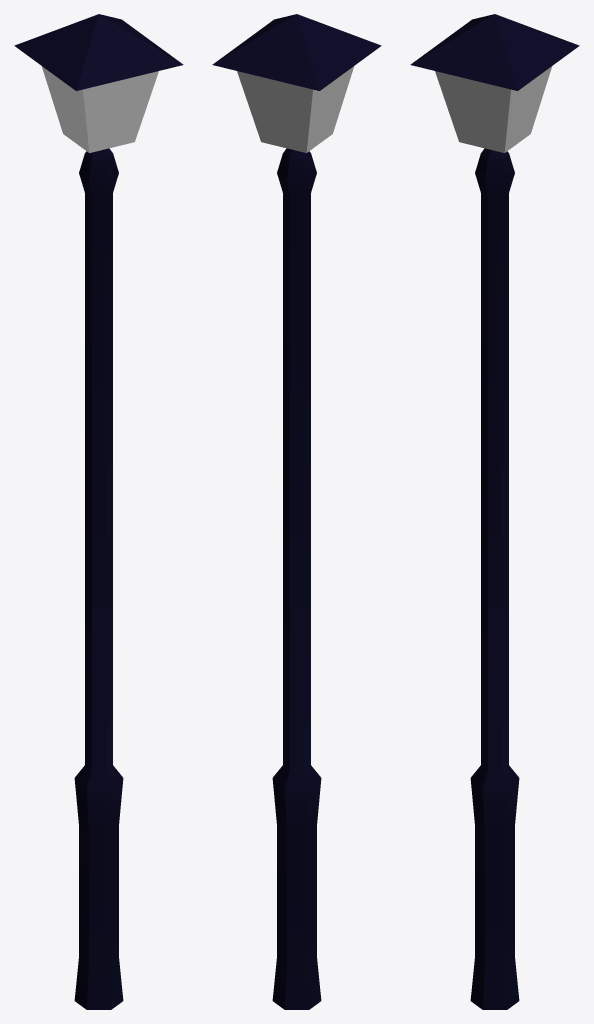
Rendered from Post.fbx.
The picture shows the model from 3 angles, left to right: view 1: azimuth 30°, elevation 25°; view 2: azimuth 150°, elevation 25°; view 3: azimuth 330°, elevation 25°; orthographic projection.
Visible parts, largest first — view 1: Cylinder.001; view 2: Cylinder.001; view 3: Cylinder.001.
Part boxes in pixels (x1,y1,x2,y2): Cylinder.001: (14,14,183,1009); Cylinder.001: (212,14,381,1009); Cylinder.001: (410,14,579,1009).
Size of the model in its own units: 1743 by 15270 by 1743.
